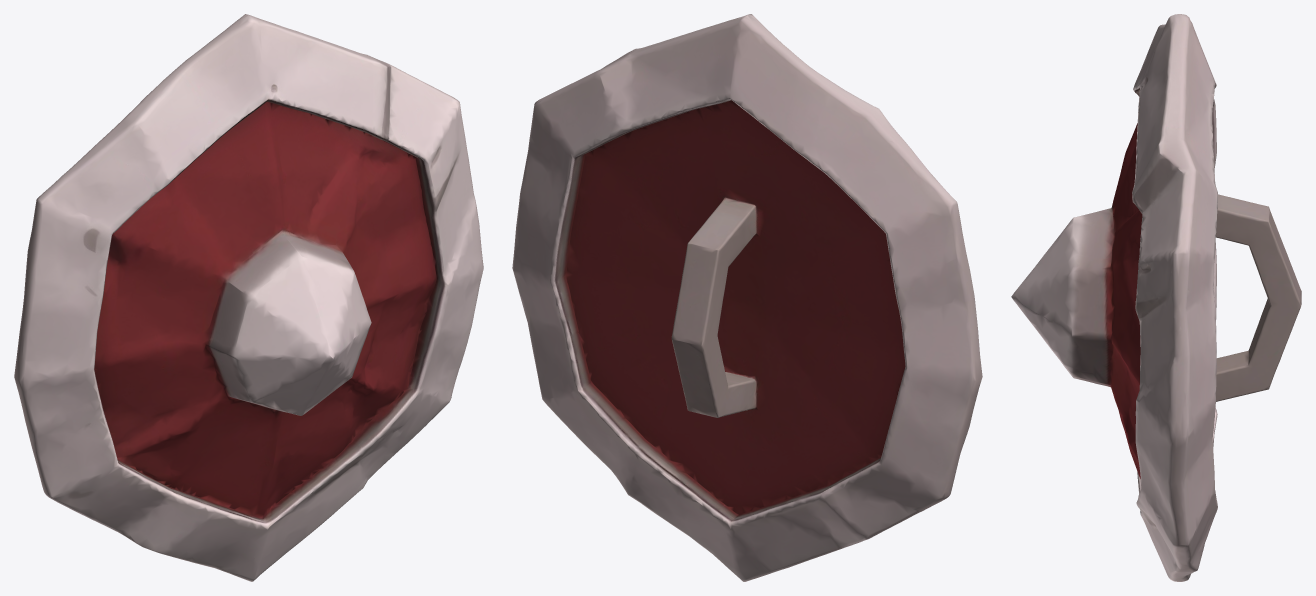
Rendered from polygonal_shield.glb.
3 renders of one model, left to right at view 1: azimuth 30°, elevation 25°; view 2: azimuth 150°, elevation 25°; view 3: azimuth 270°, elevation 25°, orthographic.
Visible parts, largest first — view 1: tripo_node_775f464d-5eb4-45f4-a224-13d1101937b2; view 2: tripo_node_775f464d-5eb4-45f4-a224-13d1101937b2; view 3: tripo_node_775f464d-5eb4-45f4-a224-13d1101937b2.
Boxes of the visible parts, <box> form: tripo_node_775f464d-5eb4-45f4-a224-13d1101937b2: <box>14,14,483,581</box>; tripo_node_775f464d-5eb4-45f4-a224-13d1101937b2: <box>512,14,982,581</box>; tripo_node_775f464d-5eb4-45f4-a224-13d1101937b2: <box>1011,14,1301,581</box>.
Bounding box in the file's own units: 0.8611 × 1 × 0.4634.
1 material, 1 textured.
